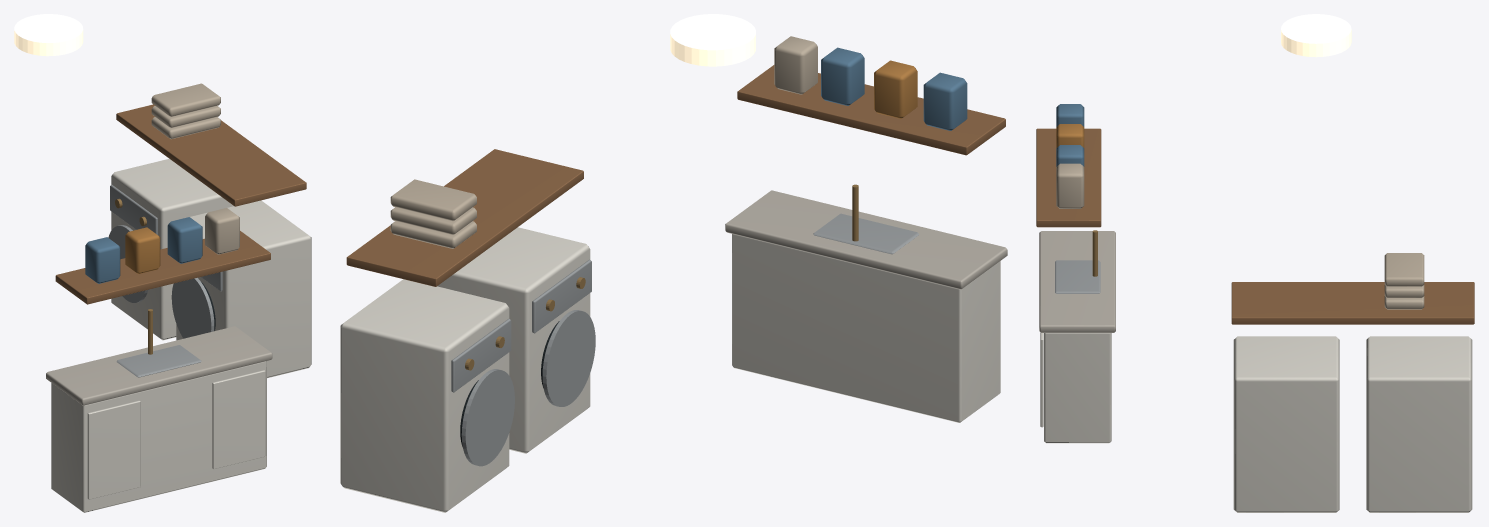
Rendered from laundry-furniture-v002.glb.
The picture shows the model from 3 angles, left to right: view 1: azimuth 30°, elevation 25°; view 2: azimuth 150°, elevation 25°; view 3: azimuth 270°, elevation 25°; orthographic projection. The views are drawn at different scales.
Parts seen in each view (by area): view 1: Export washer case; view 2: Export washer case; view 3: Export washer case.
Part boxes in pixels (left/top/right/bottom): Export washer case: left=14, top=14, right=311, bottom=512; Export washer case: left=340, top=14, right=1007, bottom=512; Export washer case: left=1036, top=14, right=1474, bottom=512.
Size of the model in its own units: 2.62 by 2.8 by 2.97.
